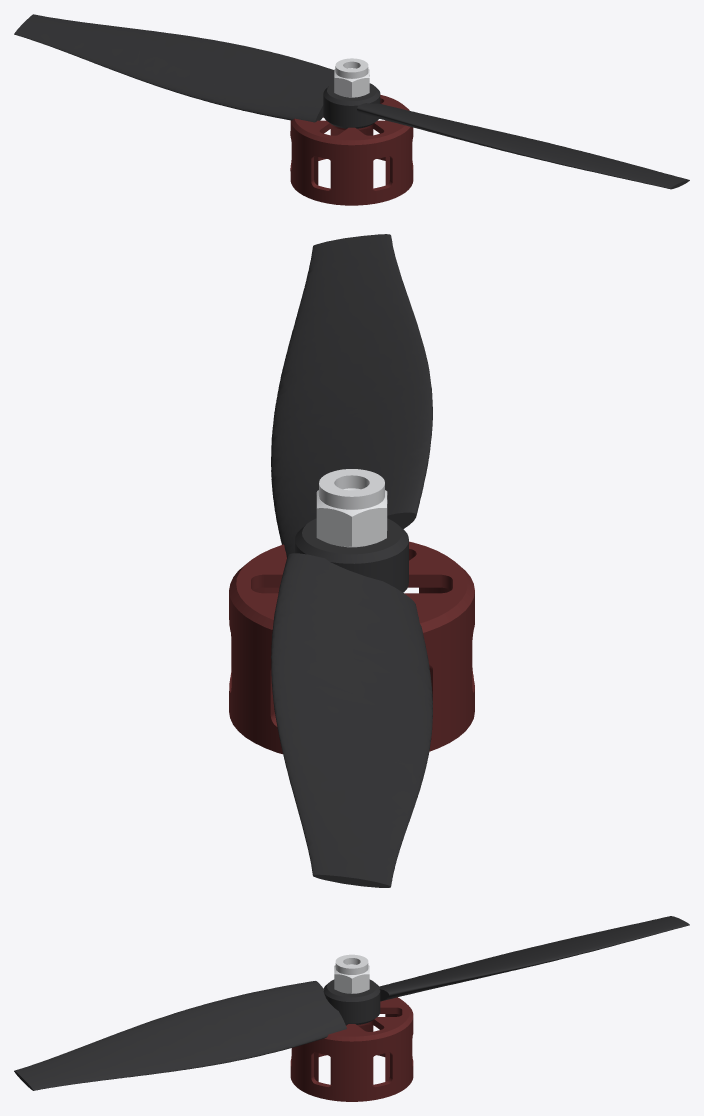
Rendered from rotor.glb.
3 renders of one model, top to bottom at view 1: azimuth 30°, elevation 25°; view 2: azimuth 150°, elevation 25°; view 3: azimuth 270°, elevation 25°, orthographic. The views are drawn at different scales.
Visible parts, largest first — view 1: rotor; view 2: rotor; view 3: rotor.
Boxes of the visible parts, left/top/right/bottom form: rotor: left=14, top=14, right=689, bottom=205; rotor: left=229, top=234, right=474, bottom=887; rotor: left=14, top=916, right=689, bottom=1101.
Bounding box in the file's own units: 94.04 × 28.73 × 154.
